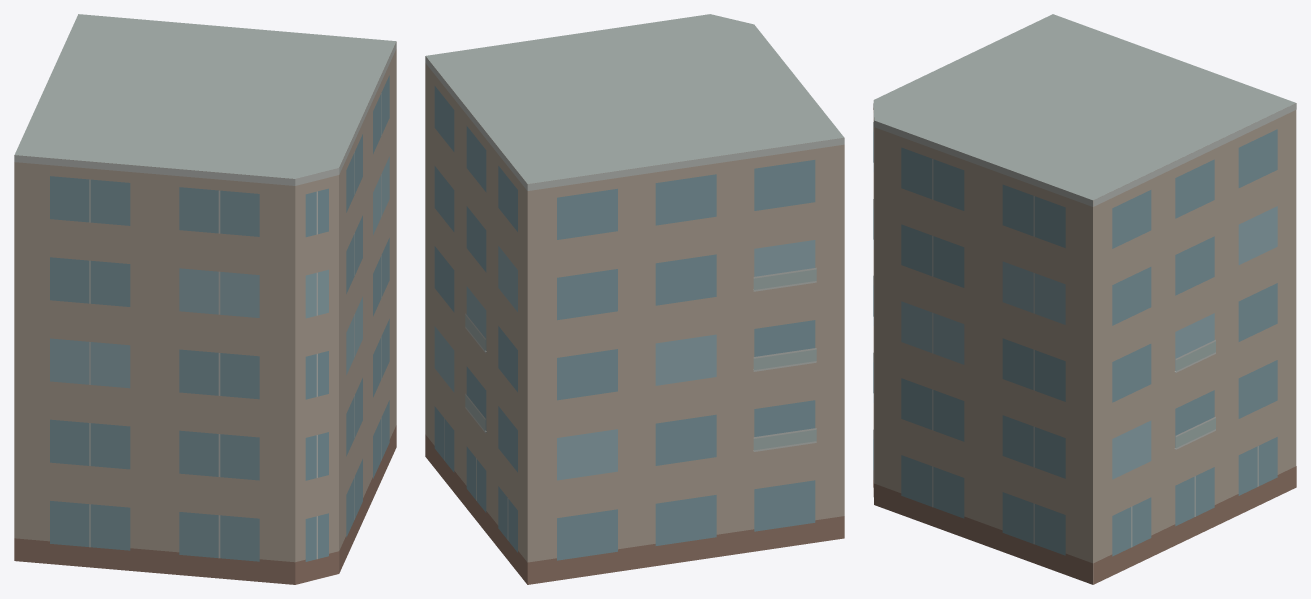
Rendered from survey-upis-32533942.glb.
3 views of the same model, side by side, from view 1: azimuth 30°, elevation 25°; view 2: azimuth 150°, elevation 25°; view 3: azimuth 270°, elevation 25° (orthographic). The views are drawn at different scales.
Parts seen in each view (by area): view 1: survey-upis-32533942.tmp; view 2: survey-upis-32533942.tmp; view 3: survey-upis-32533942.tmp.
Part boxes in pixels (<box>): survey-upis-32533942.tmp: <box>14,14,396,584</box>; survey-upis-32533942.tmp: <box>425,14,844,584</box>; survey-upis-32533942.tmp: <box>873,14,1296,584</box>.
Bounding box in the file's own units: 14.63 × 14.06 × 14.03.
